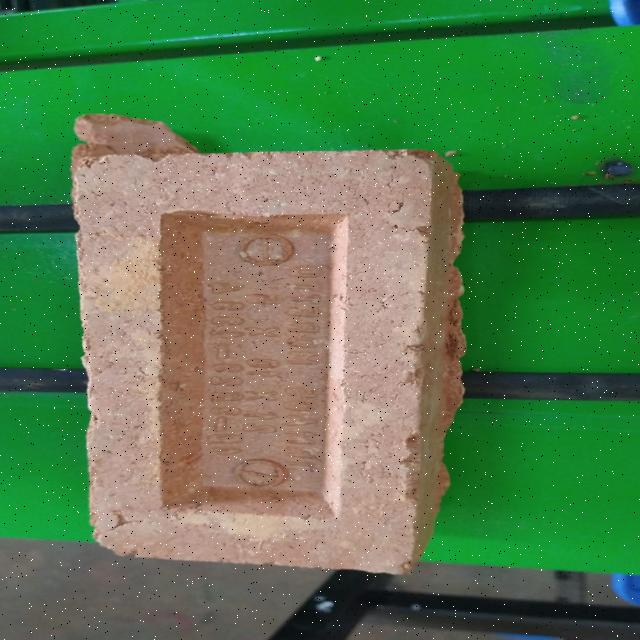bricks_ruin: (67, 113, 471, 577)
